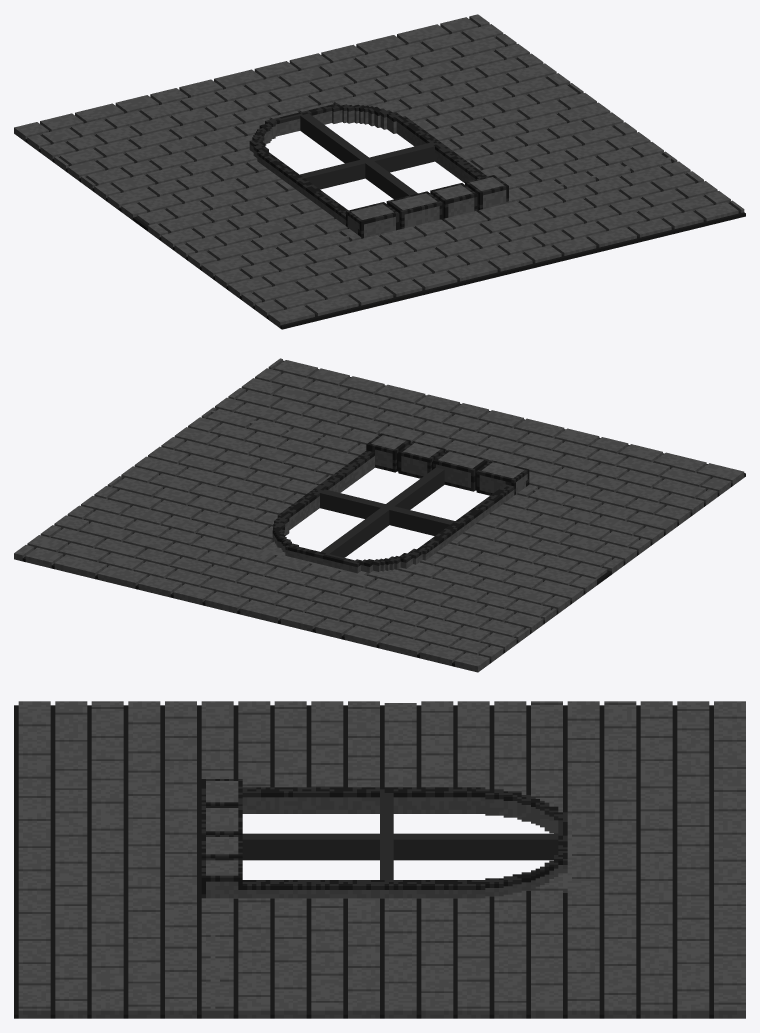
Rendered from walbrickswindow.obj.
The picture shows the model from 3 angles, top to bottom: view 1: azimuth 30°, elevation 25°; view 2: azimuth 150°, elevation 25°; view 3: azimuth 270°, elevation 25°; orthographic projection. The views are drawn at different scales.
Size of the model in its own units: 16 by 0.7 by 16.
1 material, 1 textured.
